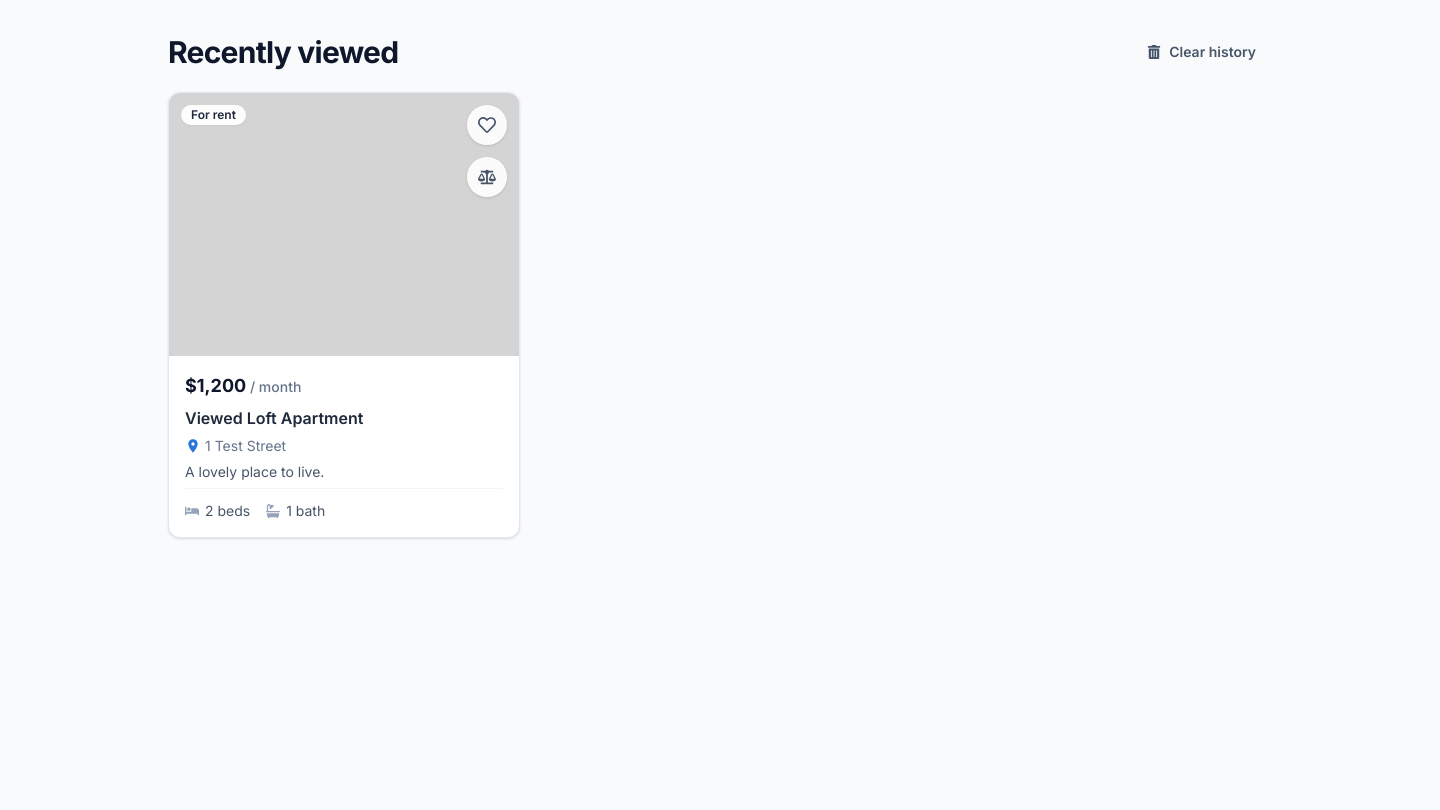
Test: RecentlyViewed page › clears the history
Expected: the heading "Viewed Loft Apartment" is shown, [185,408,363,428]
Click the button "Clear history": (1202, 52) [1131,32,1272,72]
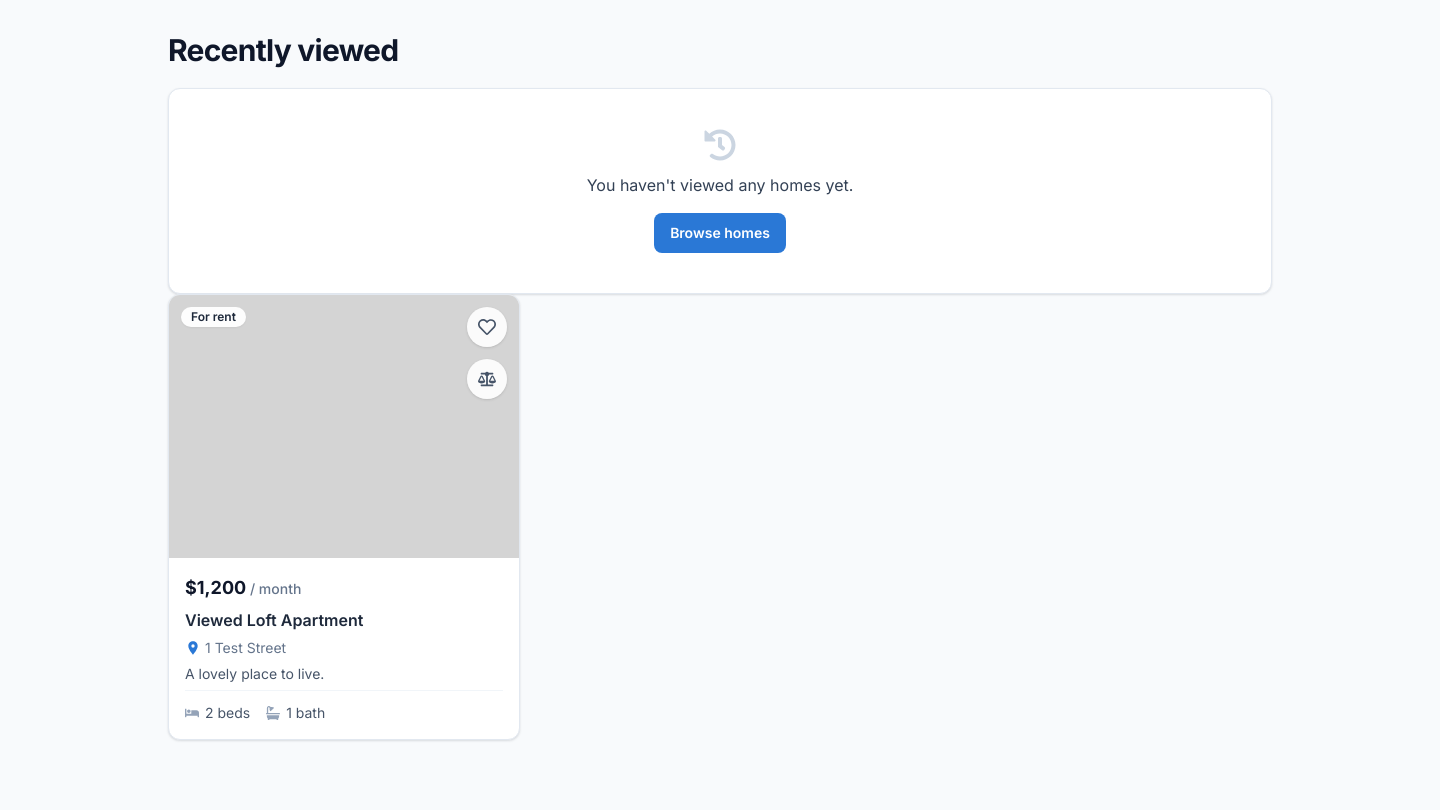
Expected: the text "You haven't viewed any homes yet." is shown, [587,173,853,197]
